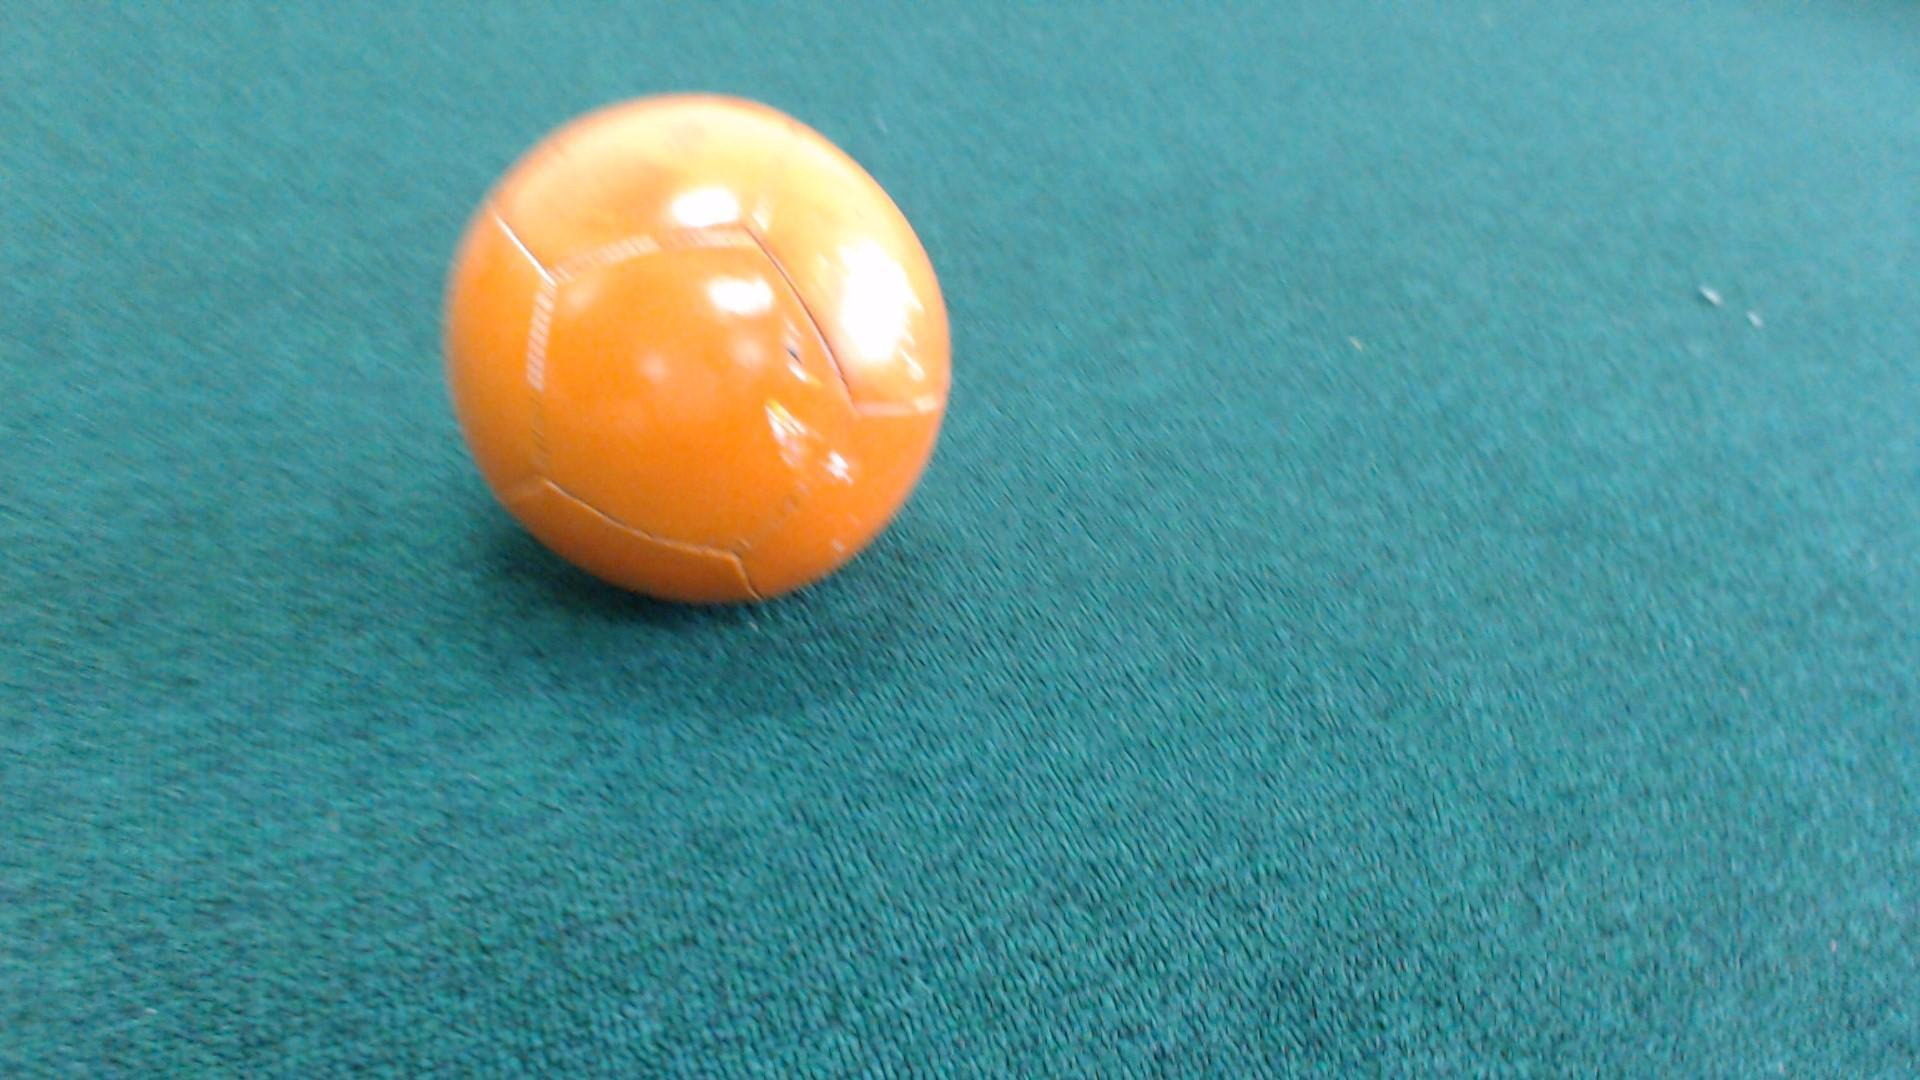bola: (407, 69, 1001, 644)
